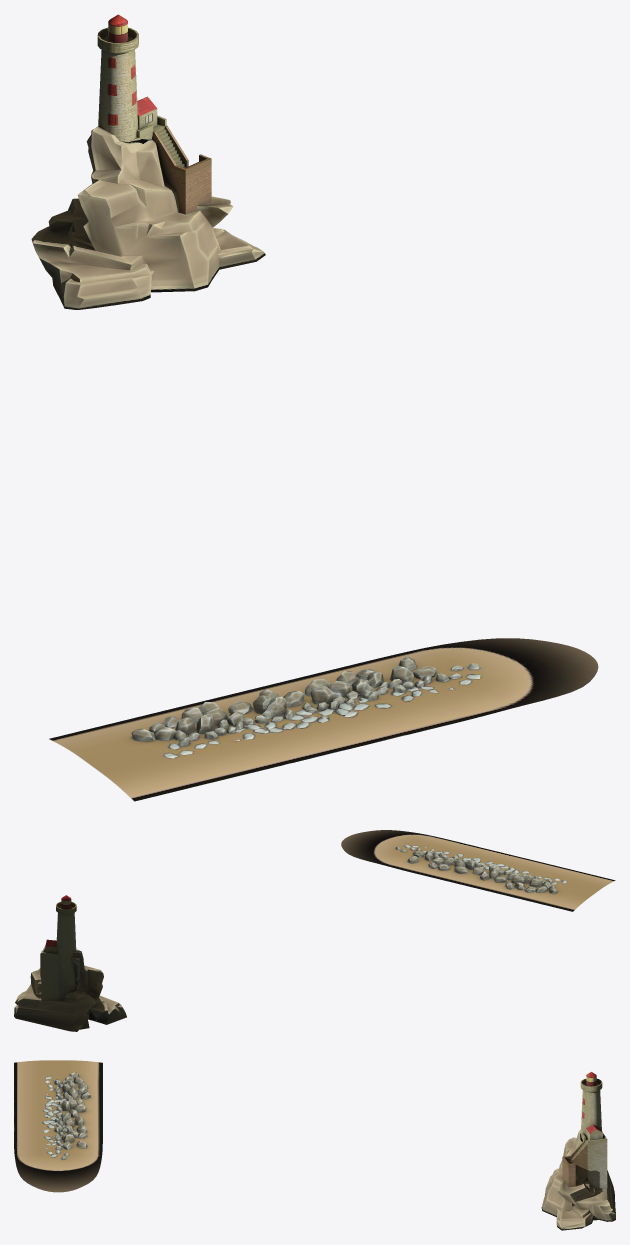
Rendered from light house.glb.
The picture shows the model from 3 angles, top to bottom: view 1: azimuth 30°, elevation 25°; view 2: azimuth 150°, elevation 25°; view 3: azimuth 270°, elevation 25°; orthographic projection. The views are drawn at different scales.
Visible parts, largest first — view 1: ground, base, rocks, house; view 2: ground, base, house, rocks; view 3: ground, base, house, rocks.
Boxes of the visible parts, <box> form: ground: <box>49,638,598,801</box>; base: <box>31,125,265,309</box>; rocks: <box>131,656,480,758</box>; house: <box>97,14,211,214</box>; ground: <box>341,830,615,911</box>; base: <box>14,949,126,1031</box>; house: <box>40,895,76,1000</box>; rocks: <box>395,844,566,893</box>; ground: <box>14,1060,102,1192</box>; base: <box>541,1129,615,1230</box>; house: <box>562,1072,607,1189</box>; rocks: <box>42,1072,90,1159</box>.
Size of what is drawn, in the model's own units: 43.88 by 16.1 by 66.85.
2 materials, 2 textured.
